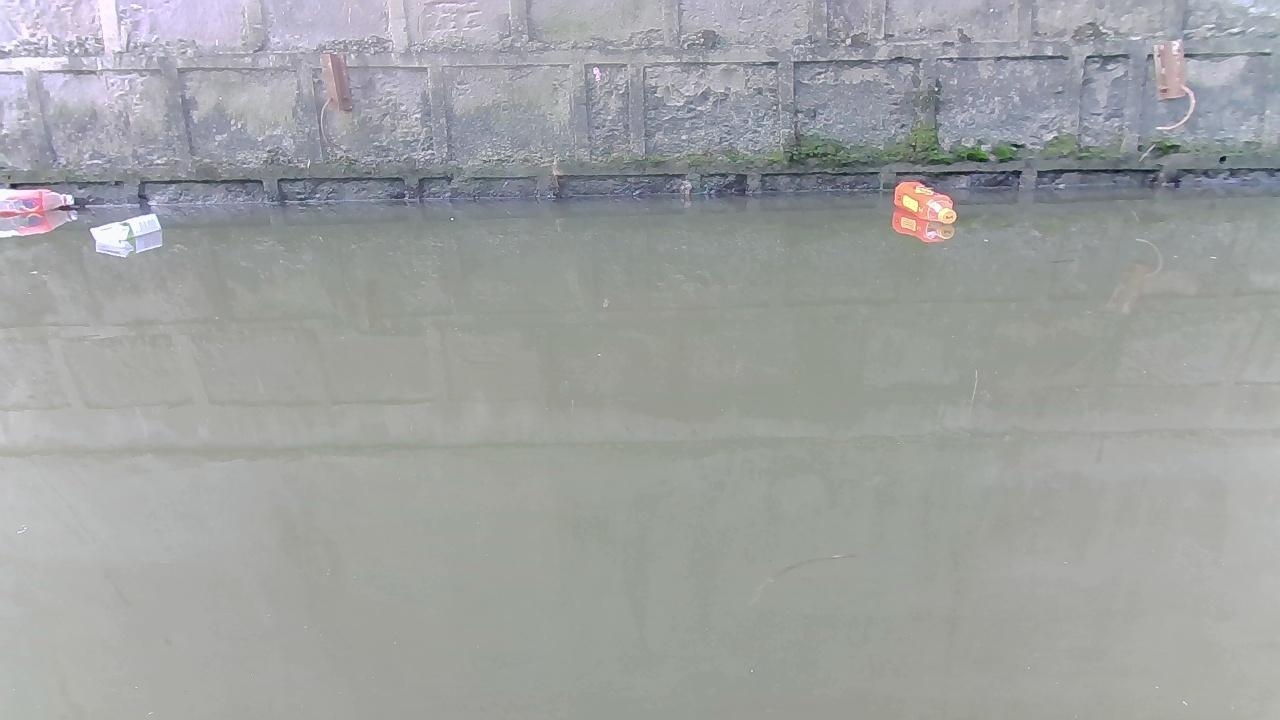bottle: (891, 180, 961, 227), (91, 212, 167, 250), (0, 186, 72, 215)
